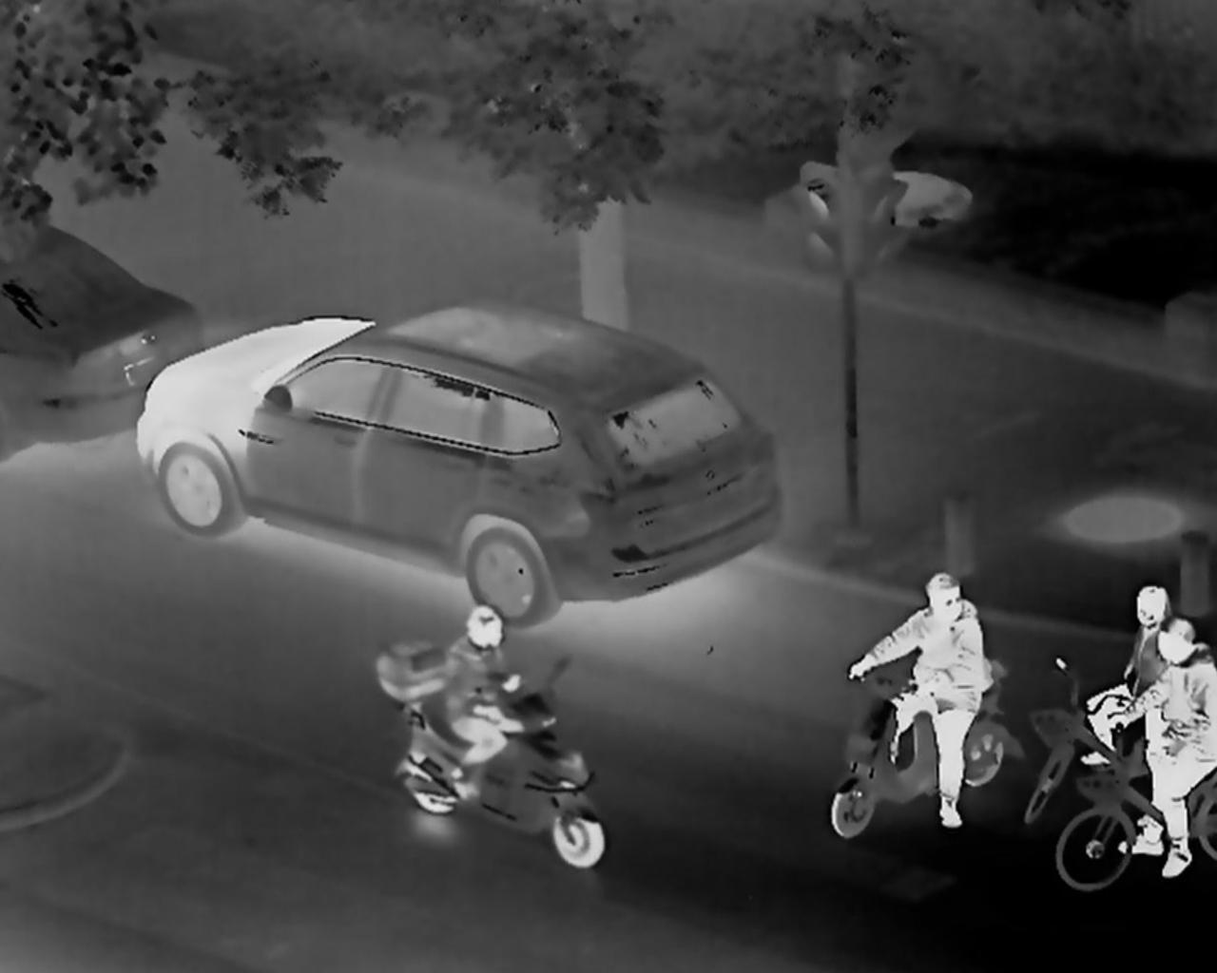person: (845, 562, 993, 832), (1100, 618, 1213, 879), (1076, 580, 1181, 824), (435, 601, 524, 811)
